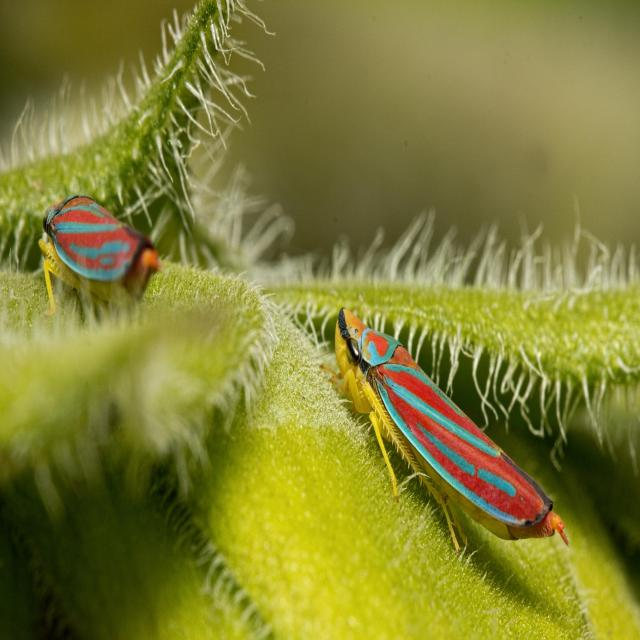Yechan: (320, 293, 588, 580), (28, 182, 170, 319)
